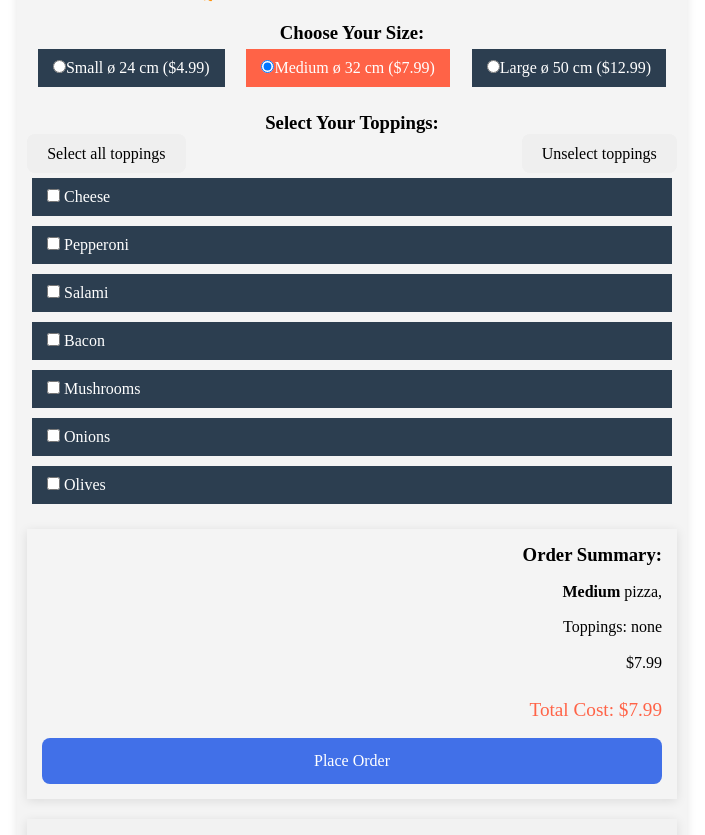
CustomPizza Component › placing an order adds it to the orders list
Click the button "Place Order" at [352, 761], box [42,738,662,784]
(page scrolled)
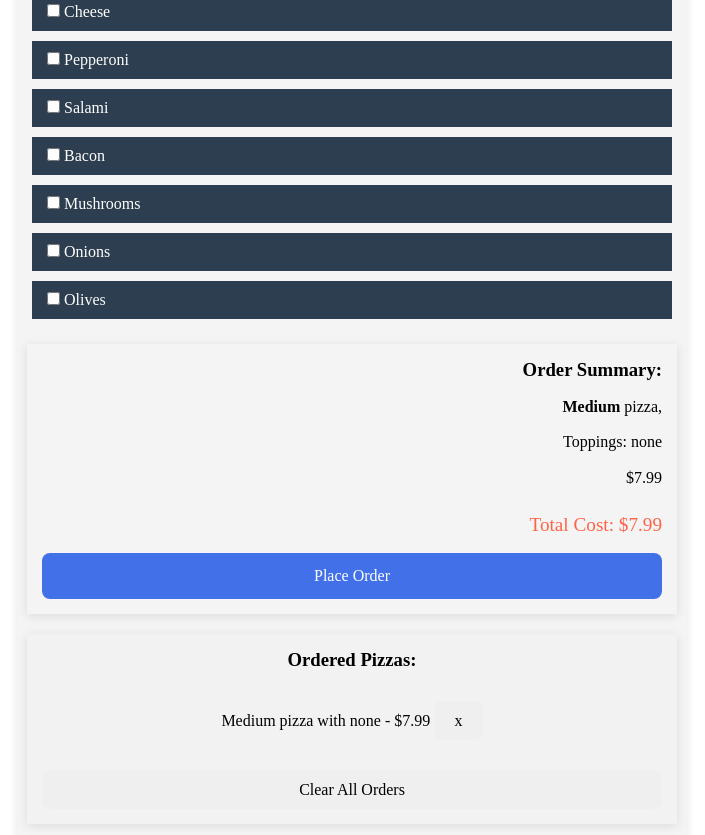
expect the text "Medium pizza with none - $7.99" is shown: met, box [221,701,483,740]
